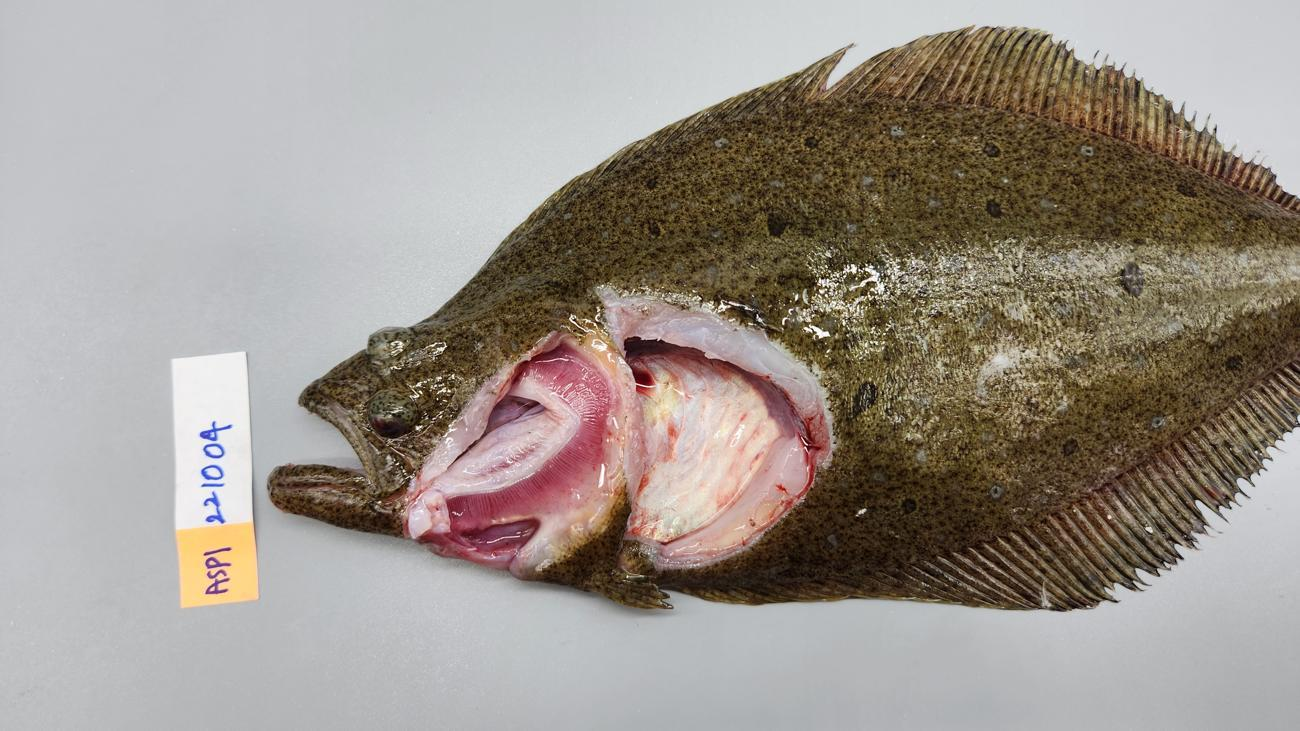SPASQ: (627, 370, 781, 543)
SPKIE: (626, 340, 809, 440)
